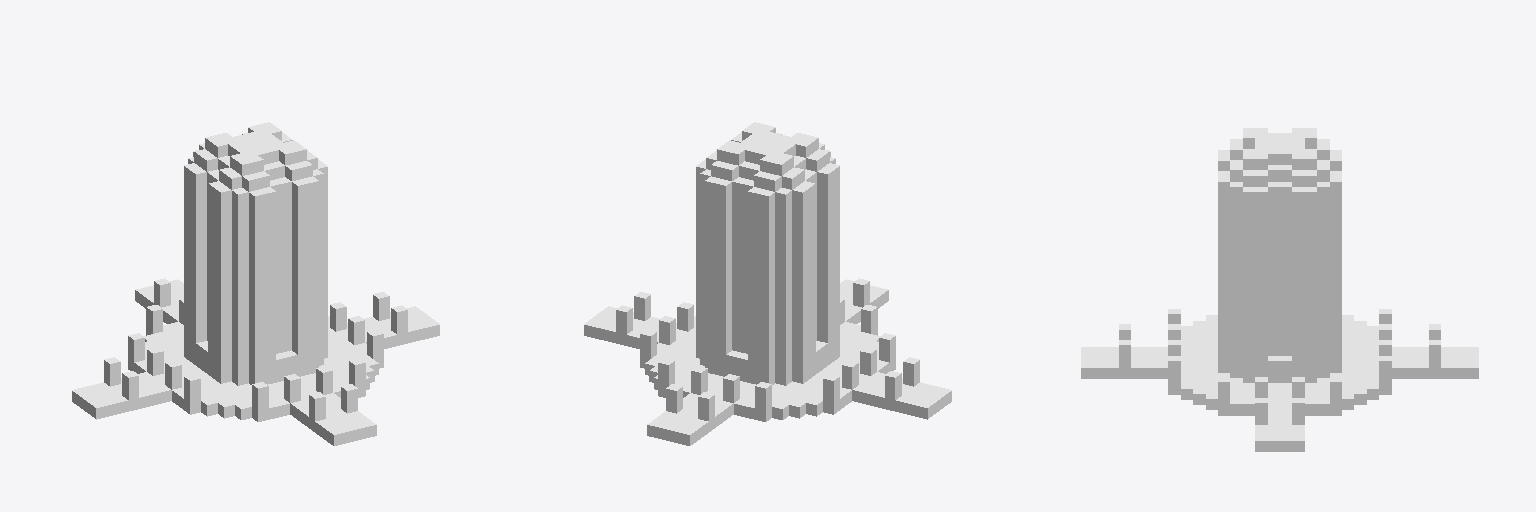
Rendered from tower4_lowLevel-1.obj.
The picture shows the model from 3 angles: view 1: azimuth 30°, elevation 25°; view 2: azimuth 150°, elevation 25°; view 3: azimuth 270°, elevation 25°; orthographic projection.
Parts seen in each view (by area): view 1: object 1; view 2: object 1; view 3: object 1.
Boxes of the visible parts, <box> form: object 1: <box>72,122,439,445</box>; object 1: <box>584,122,951,445</box>; object 1: <box>1081,128,1478,451</box>.
Bounding box in the file's own units: 3.2 × 2 × 3.2.